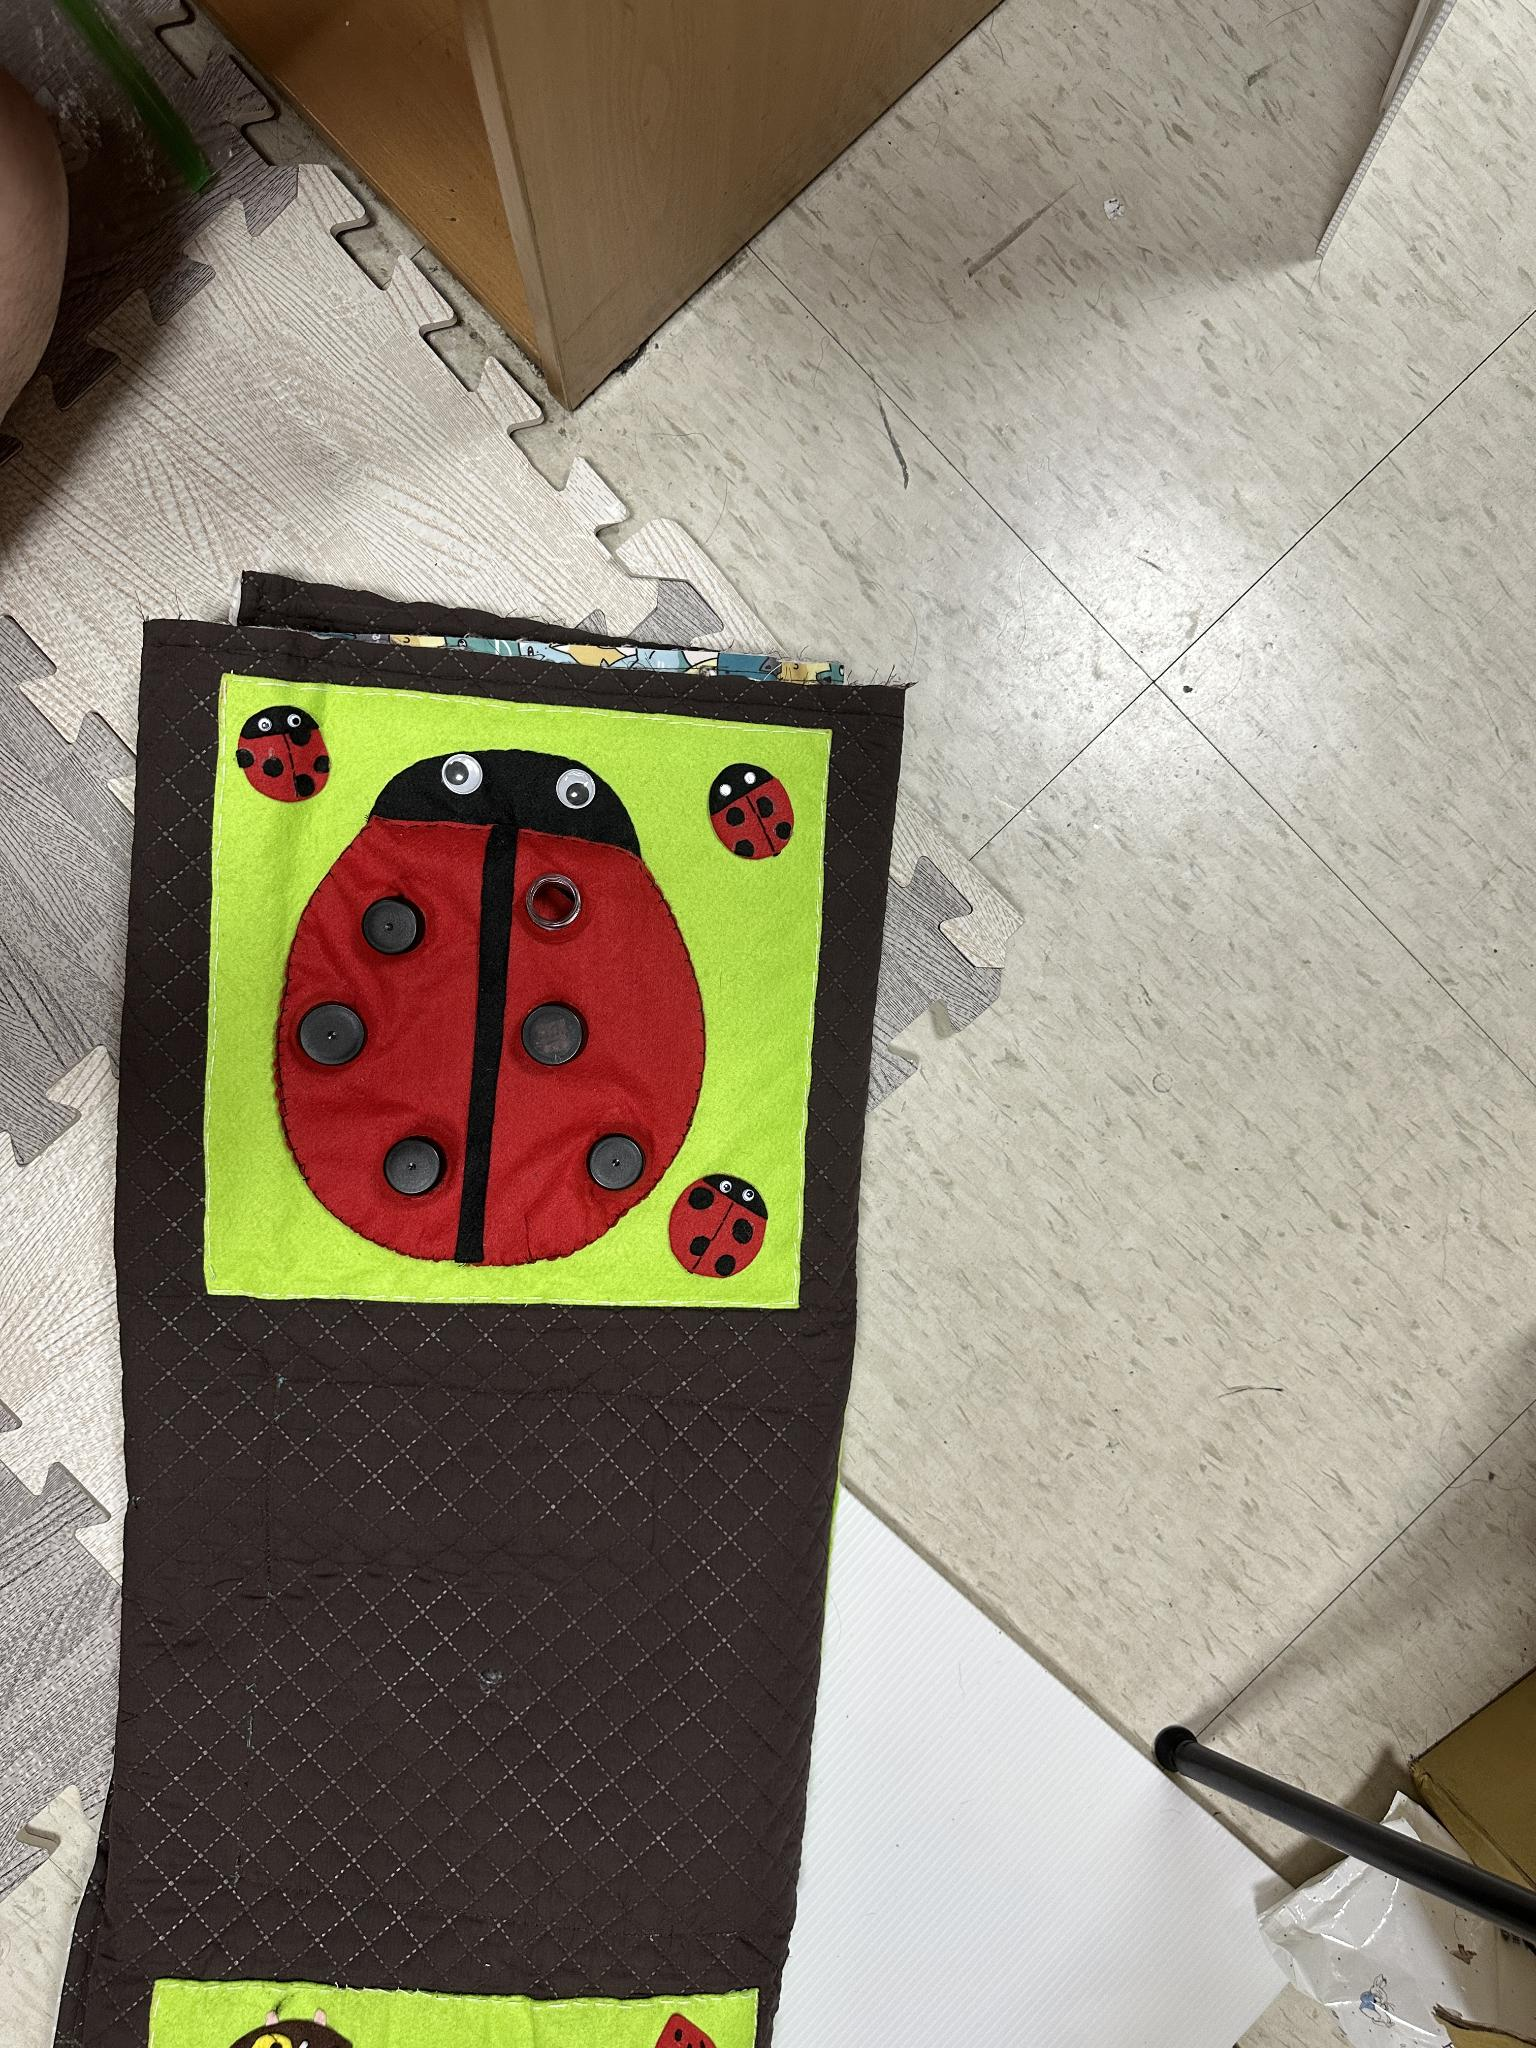cap_ok: (515, 992, 605, 1074), (292, 989, 376, 1076), (374, 1116, 457, 1201), (360, 885, 439, 964), (579, 1116, 652, 1197)
